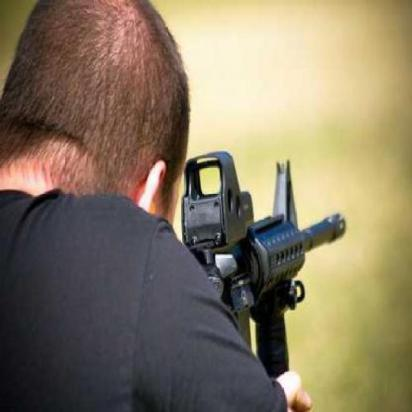Gun: (169, 149, 347, 399)
